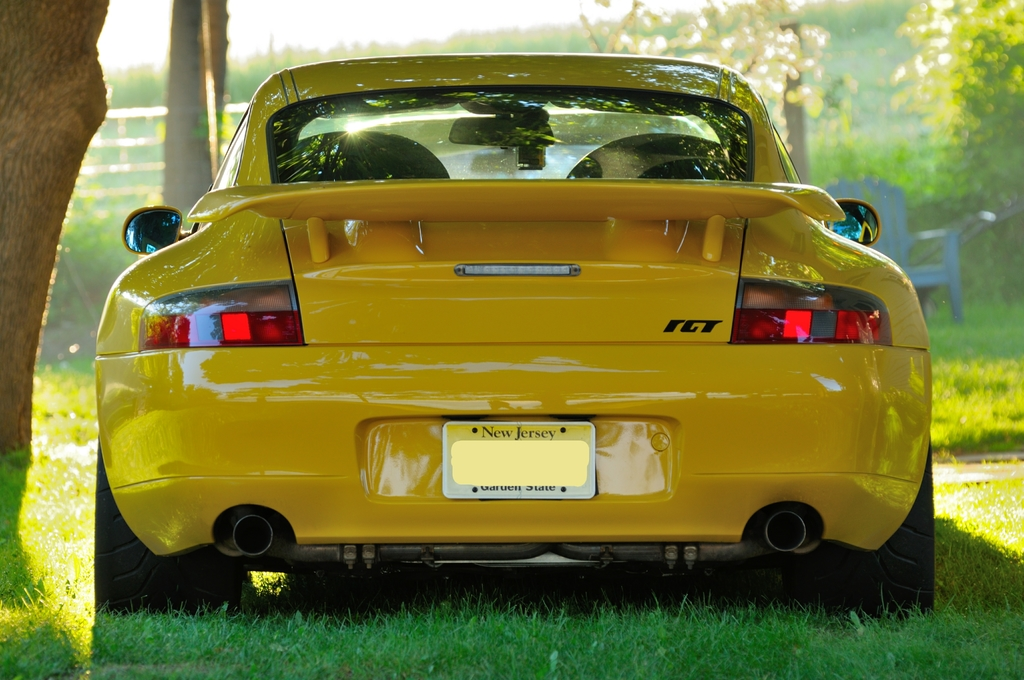Car: (94, 51, 937, 615)
